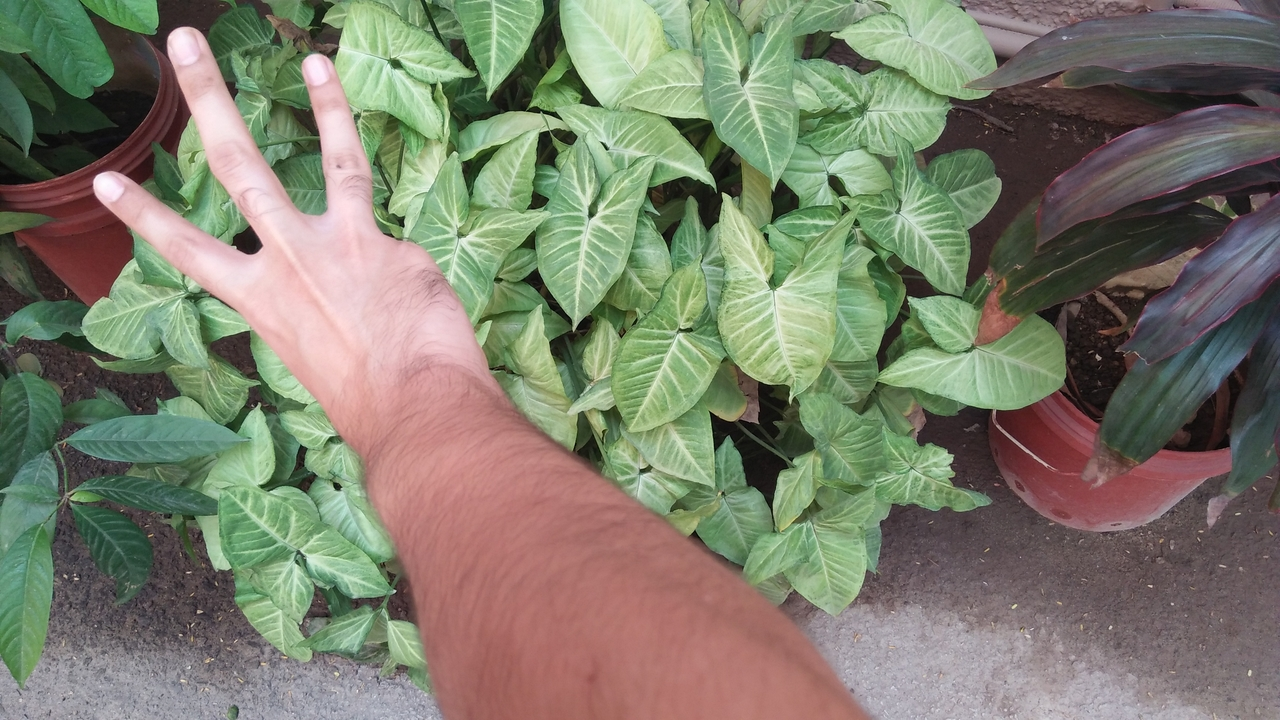fingertip: (78, 164, 152, 214), (154, 22, 216, 78), (290, 44, 338, 92)
